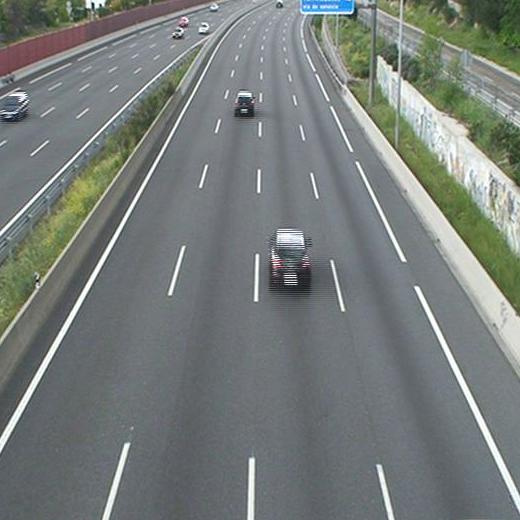car: (270, 229, 313, 295), (233, 89, 254, 118)
